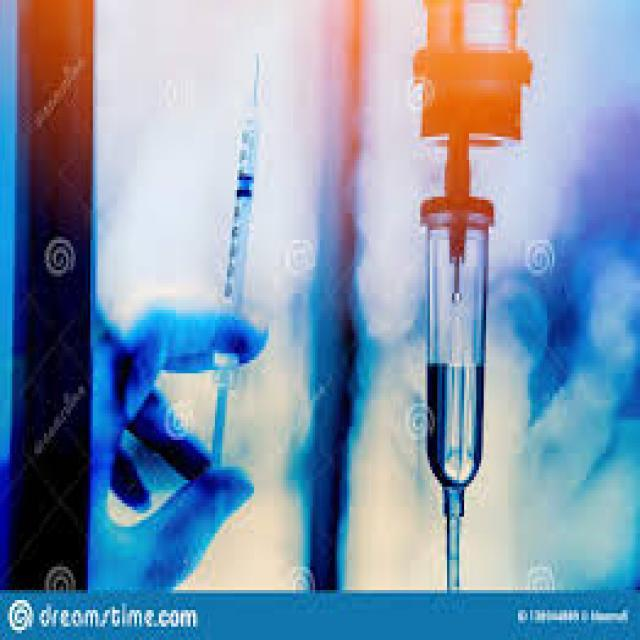iv_fluids: (403, 50, 526, 589)
syringe: (207, 80, 319, 422)
